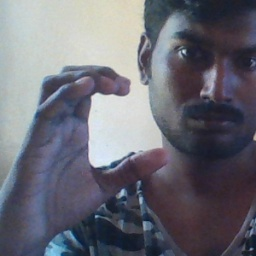C: (39, 59, 170, 190)
